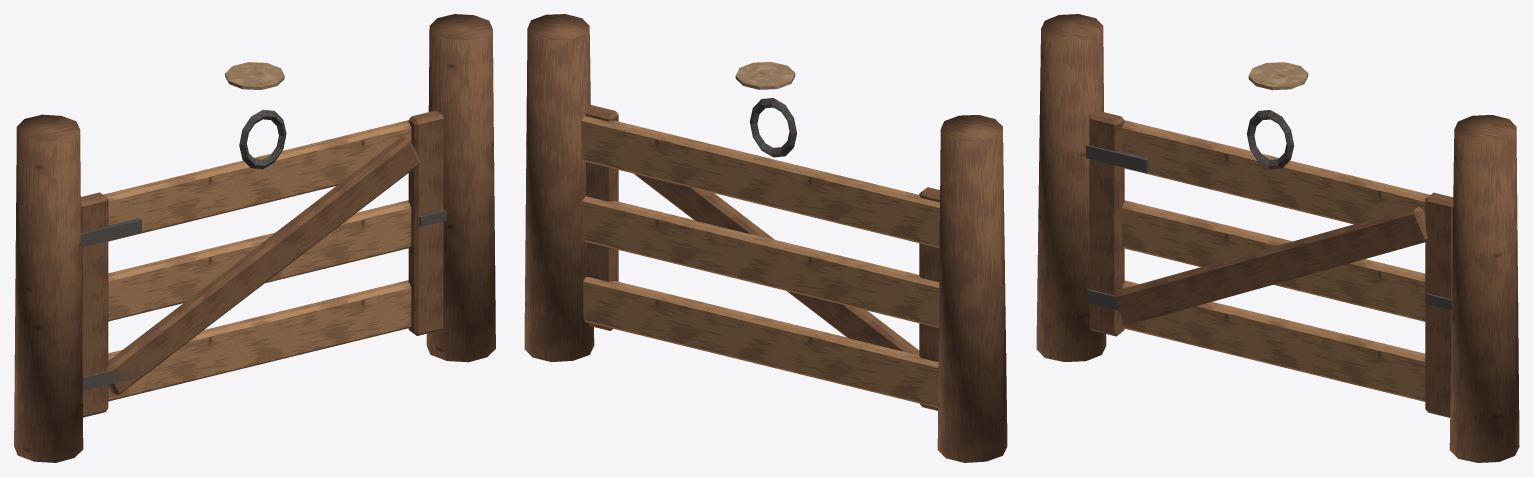
Rendered from farm_gate.glb.
3 views of the same model, side by side, from view 1: azimuth 30°, elevation 25°; view 2: azimuth 150°, elevation 25°; view 3: azimuth 330°, elevation 25° (orthographic).
Visible parts, largest first — view 1: farm_gate_gate_leaf, farm_gate_posts; view 2: farm_gate_gate_leaf, farm_gate_posts; view 3: farm_gate_gate_leaf, farm_gate_posts.
Part boxes in pixels (x1,y1,x2,y2): farm_gate_gate_leaf: (81, 110, 446, 417); farm_gate_posts: (14, 14, 495, 462); farm_gate_gate_leaf: (581, 98, 939, 410); farm_gate_posts: (524, 14, 1007, 462); farm_gate_gate_leaf: (1085, 110, 1453, 417); farm_gate_posts: (1036, 14, 1519, 462).
Size of what is drawn, in the model's own units: 3.1 by 2.02 by 0.3878.
Materials: 4 (4 with a texture image).
